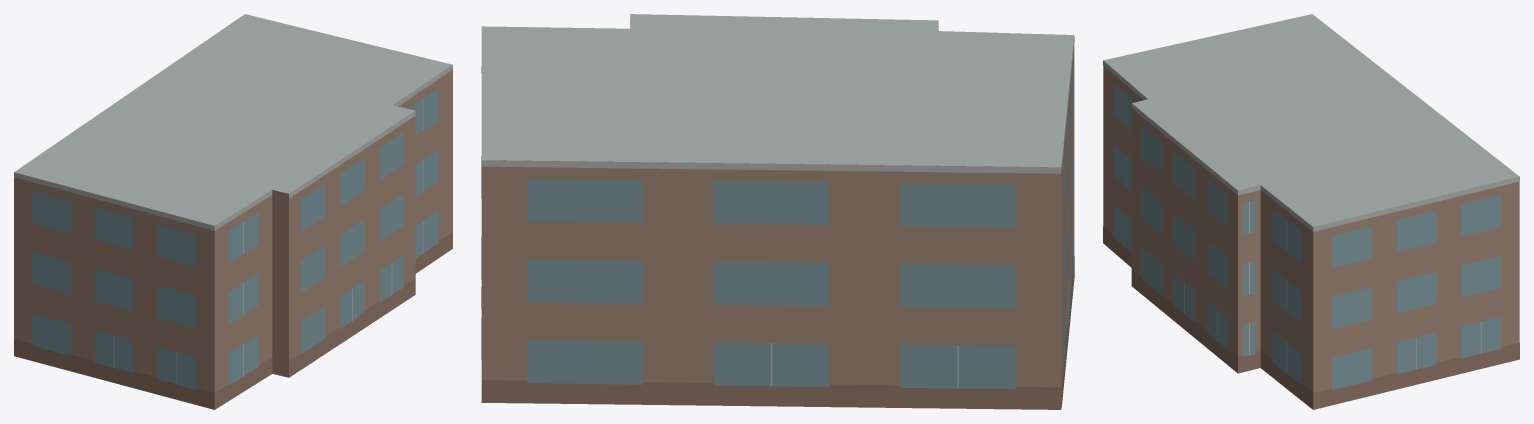
File: survey-upis-32616595.glb
The picture shows the model from 3 angles, left to right: view 1: azimuth 30°, elevation 25°; view 2: azimuth 150°, elevation 25°; view 3: azimuth 270°, elevation 25°; orthographic projection. The views are drawn at different scales.
Visible parts, largest first — view 1: survey-upis-32616595.tmp; view 2: survey-upis-32616595.tmp; view 3: survey-upis-32616595.tmp.
Part boxes in pixels (<box>): survey-upis-32616595.tmp: <box>14,14,452,409</box>; survey-upis-32616595.tmp: <box>481,14,1074,409</box>; survey-upis-32616595.tmp: <box>1103,14,1519,409</box>.
Size of the model in its own units: 22.87 by 9.15 by 18.91.
